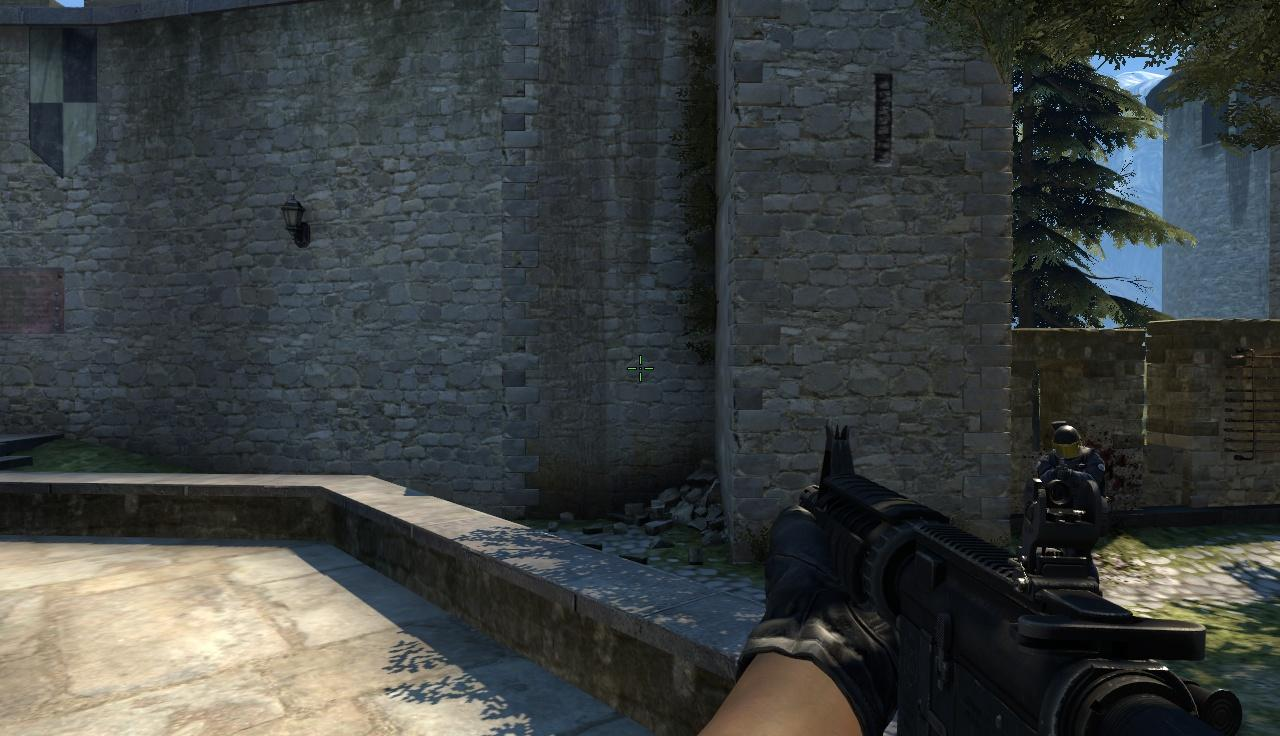ct: (1044, 427, 1109, 485)
cthead: (1054, 427, 1081, 461)
rifle: (770, 421, 1259, 731)
